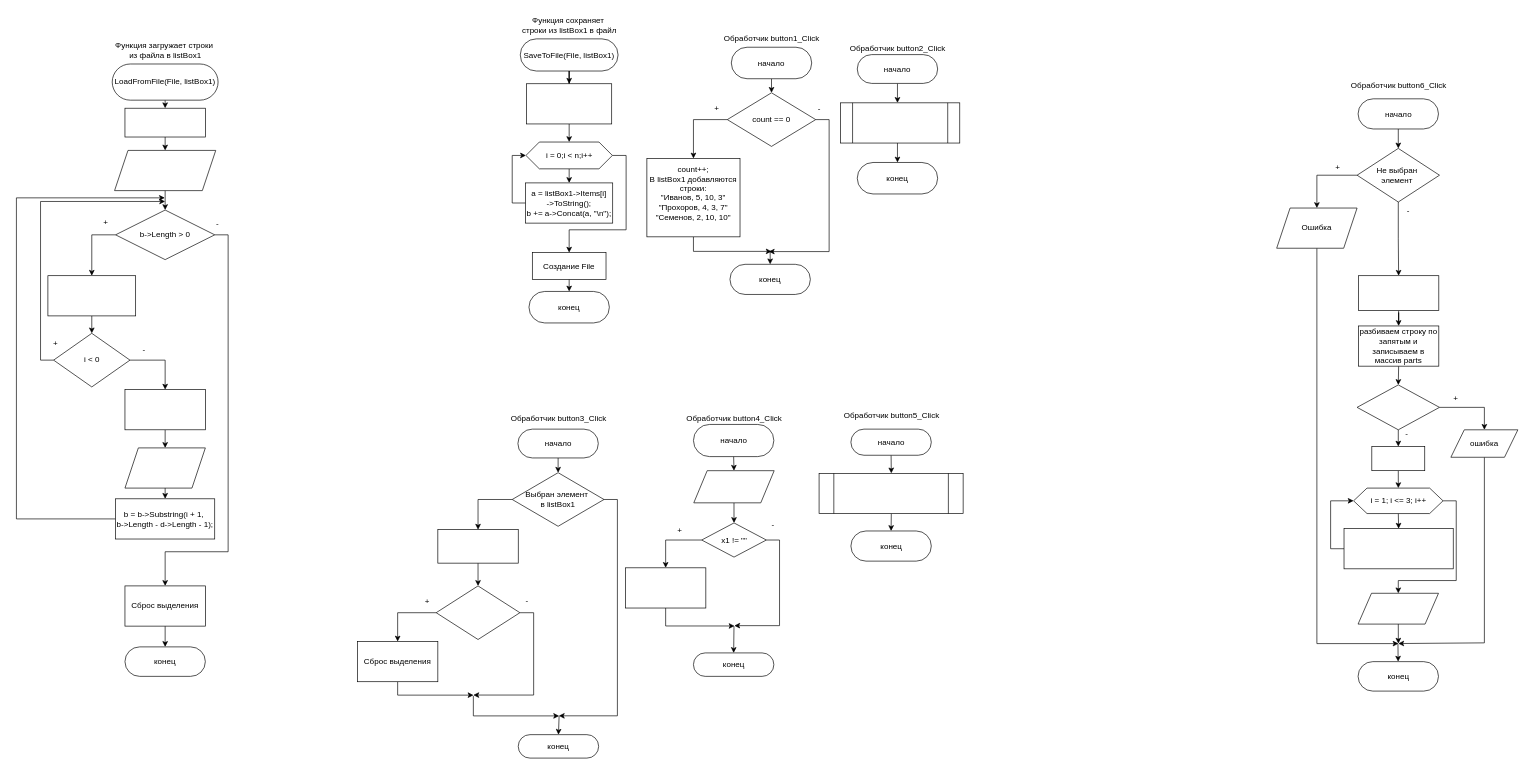
Some shapes in this 1530 by 770 pixel diagram are drawn without their labels. The shapes that lost their labels are listed below. From the top down, each one's centre as x and y in pixels, then its label:
[164,122]: Очистка listBox1
[569,103]: int n = listBox1->Items ->Count; Удаление File
[900,122]: SaveToFile("LR37.txt", this->listBox1);
[165,170]: считывание файла "LR37.txt" в строку b
[91,295]: int i = b->IndexOf("\n");
[1398,293]: line = Выбраный элемент
[164,409]: d = b->Substring(0, i);
[1397,407]: parts->Length < 4
[164,467]: Вывод строки d в listBox1
[1398,458]: s = 0
[733,486]: ввод x1
[890,493]: this->LoadFromFile("LR37.txt", this->listBox1);
[477,546]: Удаление выбраной строки
[1398,548]: String^ str = parts[i]->Trim(); s += Int32::Parse(str);
[665,587]: Добавление в listBox1 x1; Очистка поля ввода
[478,612]: Нет элементов в listBox1
[1397,608]: вывод s
